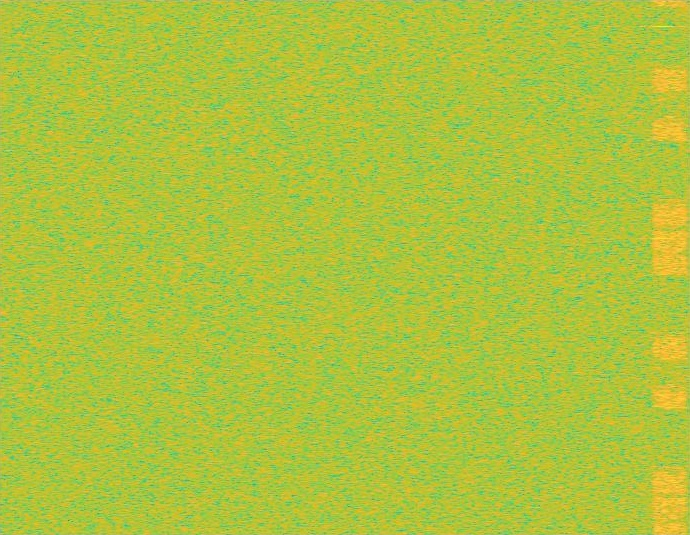LTE: (652, 0, 687, 534)
Radar: (655, 0, 669, 534)
